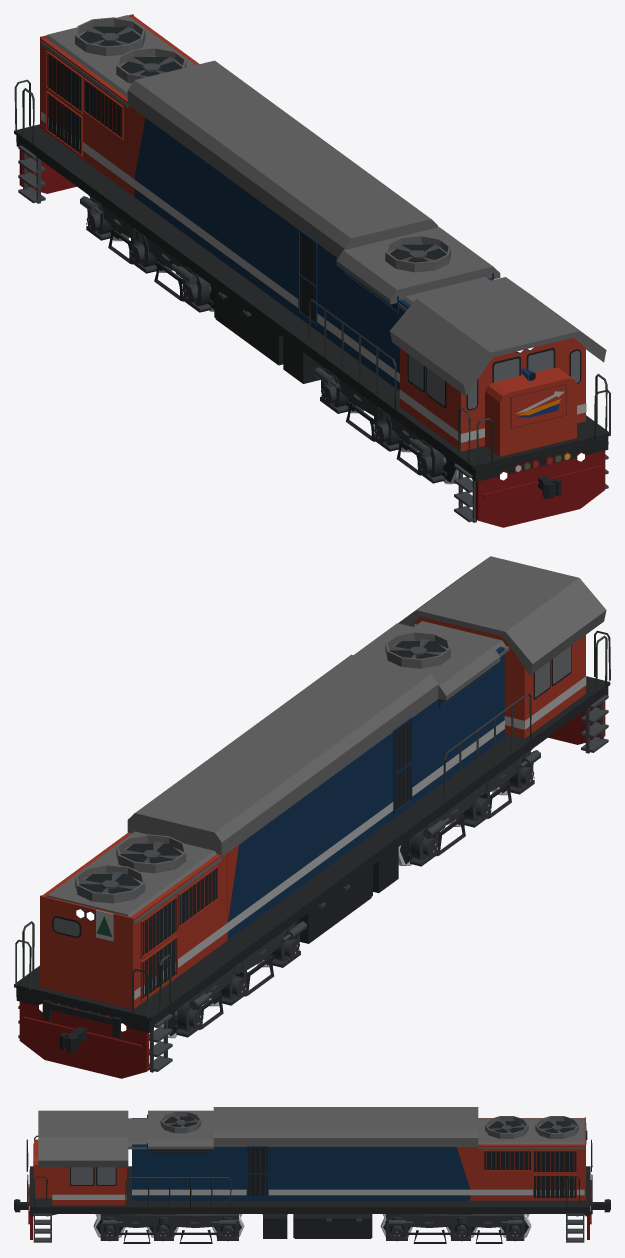
Rendered from cc205-rebuild-low-packed.glb.
3 renders of one model, top to bottom at view 1: azimuth 30°, elevation 25°; view 2: azimuth 150°, elevation 25°; view 3: azimuth 270°, elevation 25°, orthographic. The views are drawn at different scales.
Visible parts, largest first — view 1: locomotive-body, rail-bogie-1, rail-bogie--1; view 2: locomotive-body, rail-bogie--1, rail-bogie-1; view 3: locomotive-body, rail-bogie--1, rail-bogie-1, rail-wheel-1-1, rail-wheel-6-1.
Part boxes in pixels (x1,y1,x2,y2): locomotive-body: (14, 14, 610, 527); rail-bogie-1: (314, 366, 447, 483); rail-bogie--1: (80, 195, 213, 312); locomotive-body: (14, 556, 610, 1078); rail-bogie--1: (173, 920, 306, 1037); rail-bogie-1: (407, 749, 540, 866); locomotive-body: (26, 1107, 592, 1242); rail-bogie--1: (385, 1214, 524, 1243); rail-bogie-1: (100, 1214, 239, 1243); rail-wheel-1-1: (499, 1214, 531, 1241); rail-wheel-6-1: (93, 1214, 125, 1241).
Size of the model in its own units: 2.86 by 3.55 by 16.93.
